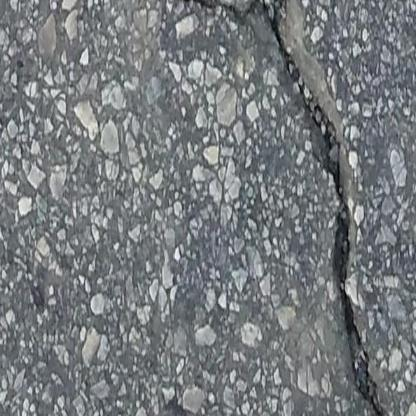Cracks: (247, 0, 407, 416), (129, 0, 211, 12)
